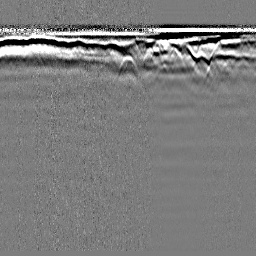cavity: (115, 53, 140, 79)
